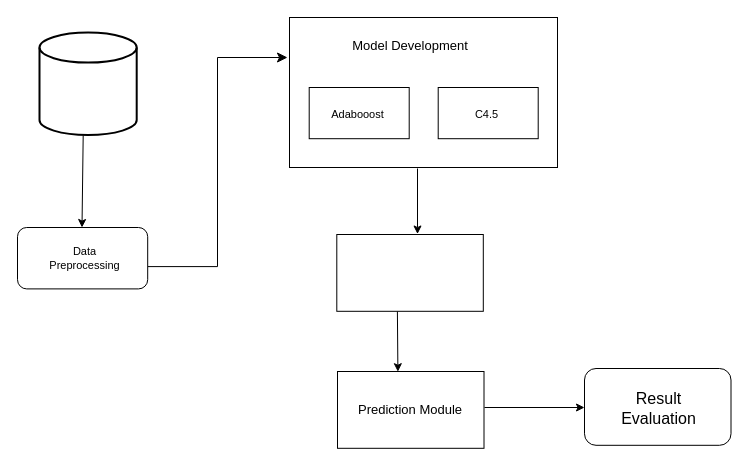
Some shapes in this 749 by 466 pixel diagram are drawn without their labels. Each missing label, with the centre of its shape:
"Hybrid Essemble" goes at pixel 409 272.
"Input Dataset" goes at pixel 87 83.
